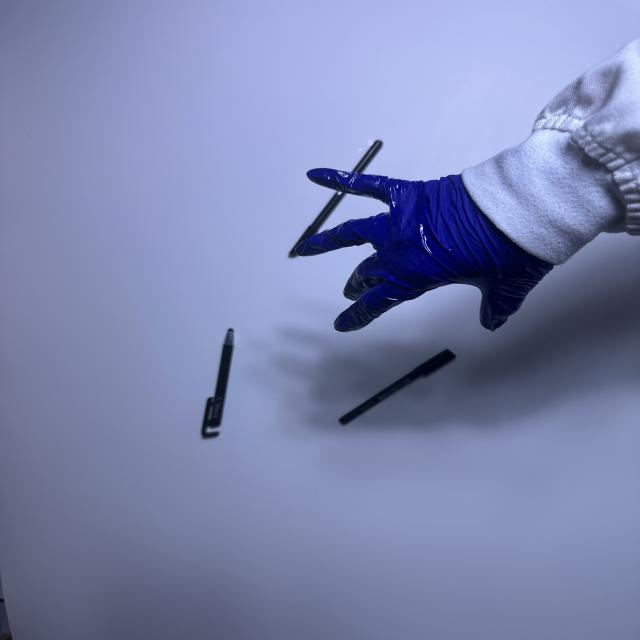gloves_contaminated: (296, 168, 553, 332)
